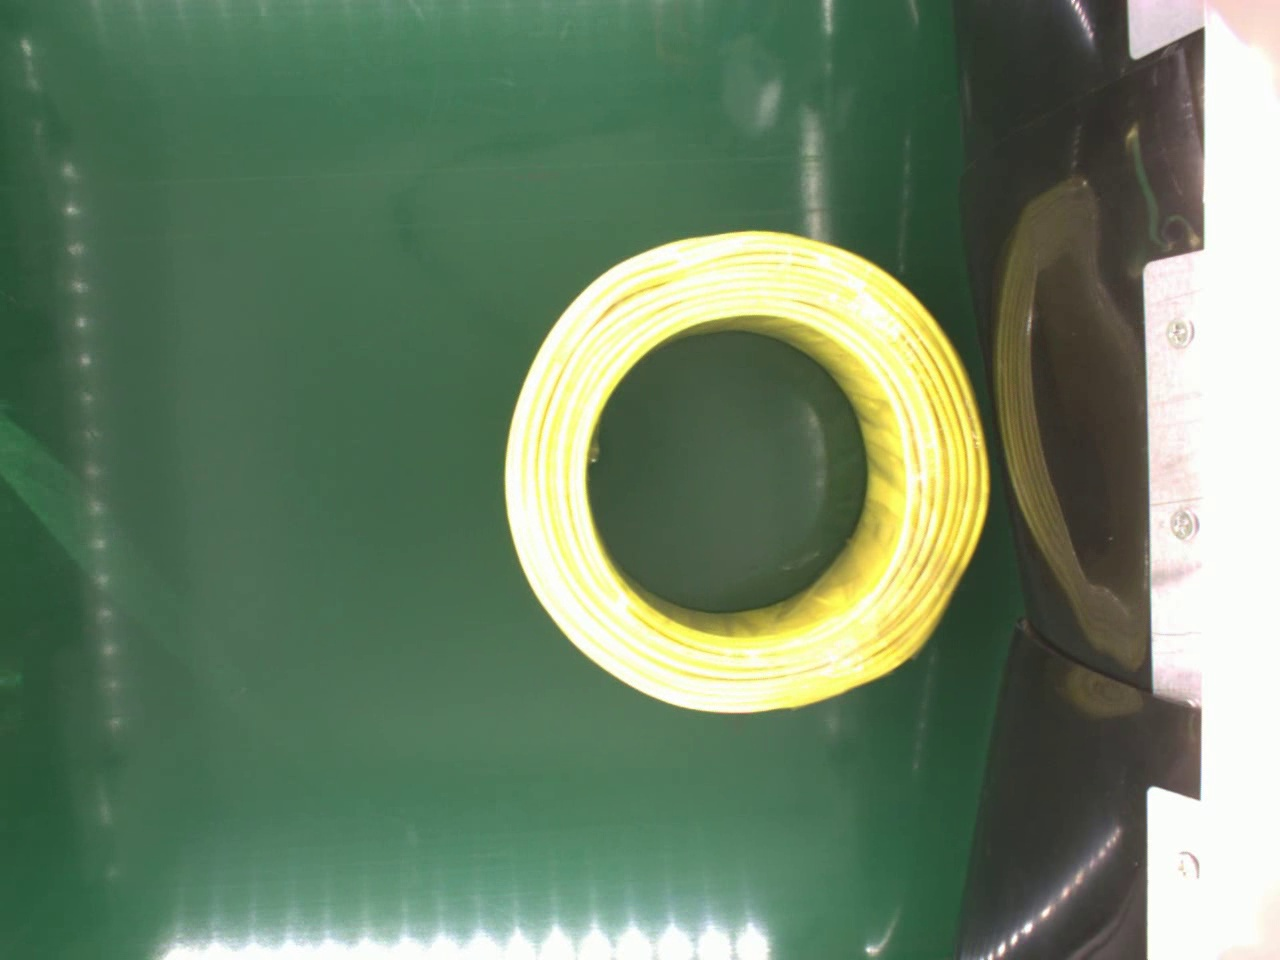yellow: (490, 222, 1000, 716)
